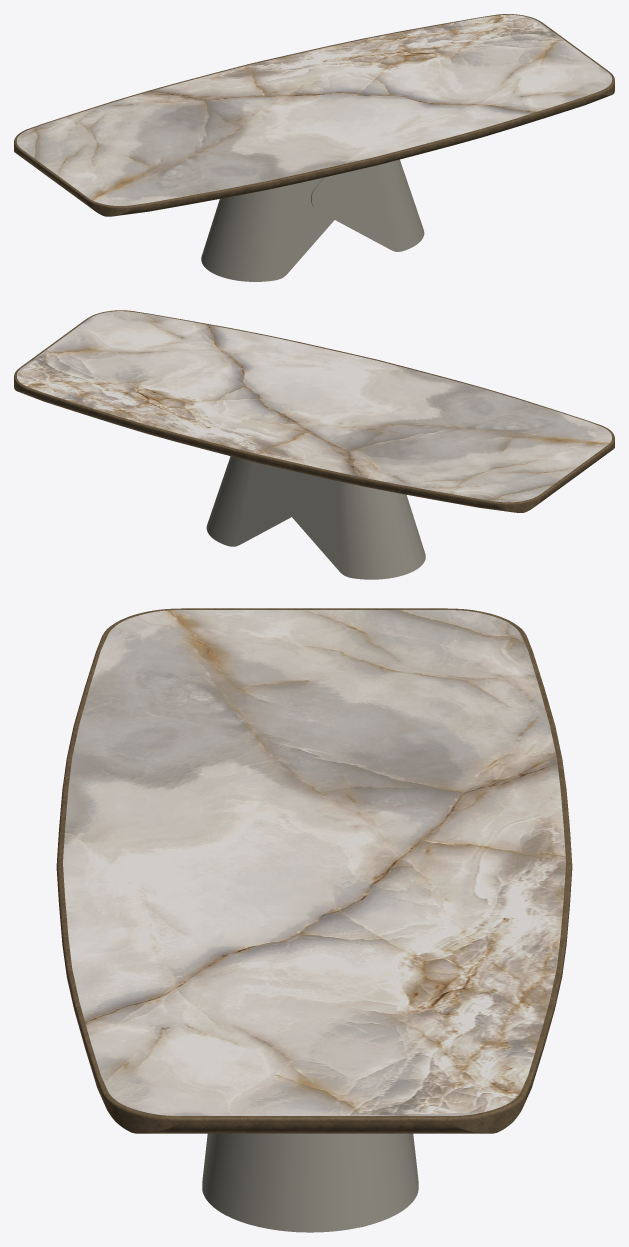
The model's file is Scott.glb.
3 views of the same model, one above another, from view 1: azimuth 30°, elevation 25°; view 2: azimuth 150°, elevation 25°; view 3: azimuth 270°, elevation 25° (orthographic). The views are drawn at different scales.
Parts seen in each view (by area): view 1: Object001; view 2: Object001; view 3: Object001.
Part boxes in pixels (x1,y1,x2,y2): Object001: [14, 14, 614, 281]; Object001: [14, 310, 614, 579]; Object001: [56, 608, 572, 1232].
Size of the model in its own units: 3 by 0.75 by 1.28.
Materials: 3 (2 with a texture image).
